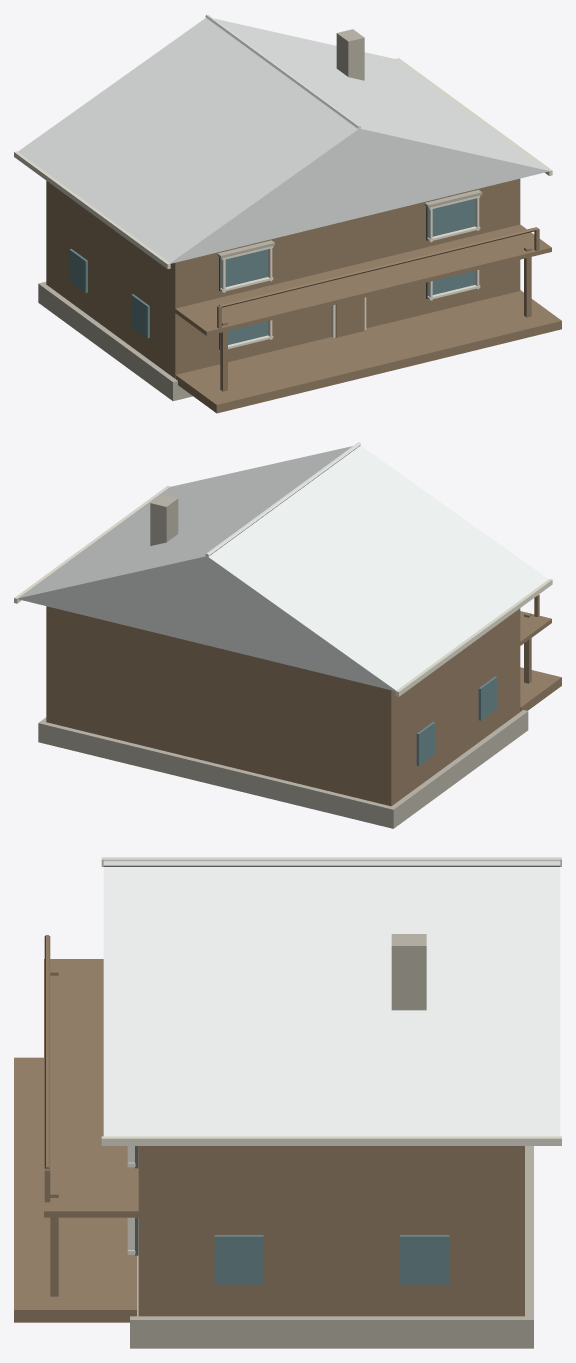
The picture shows the model from 3 angles, top to bottom: view 1: azimuth 30°, elevation 25°; view 2: azimuth 150°, elevation 25°; view 3: azimuth 270°, elevation 25°; orthographic projection. The views are drawn at different scales.
Bounding box in the file's own units: 18.96 × 11.21 × 15.6.
